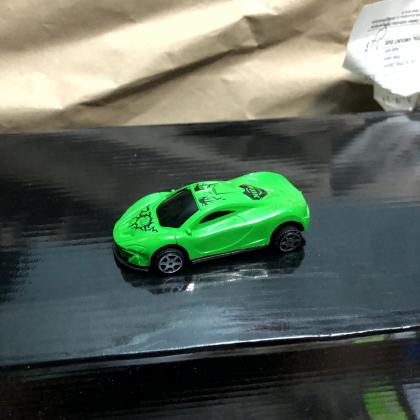Car: (112, 172, 311, 277)
